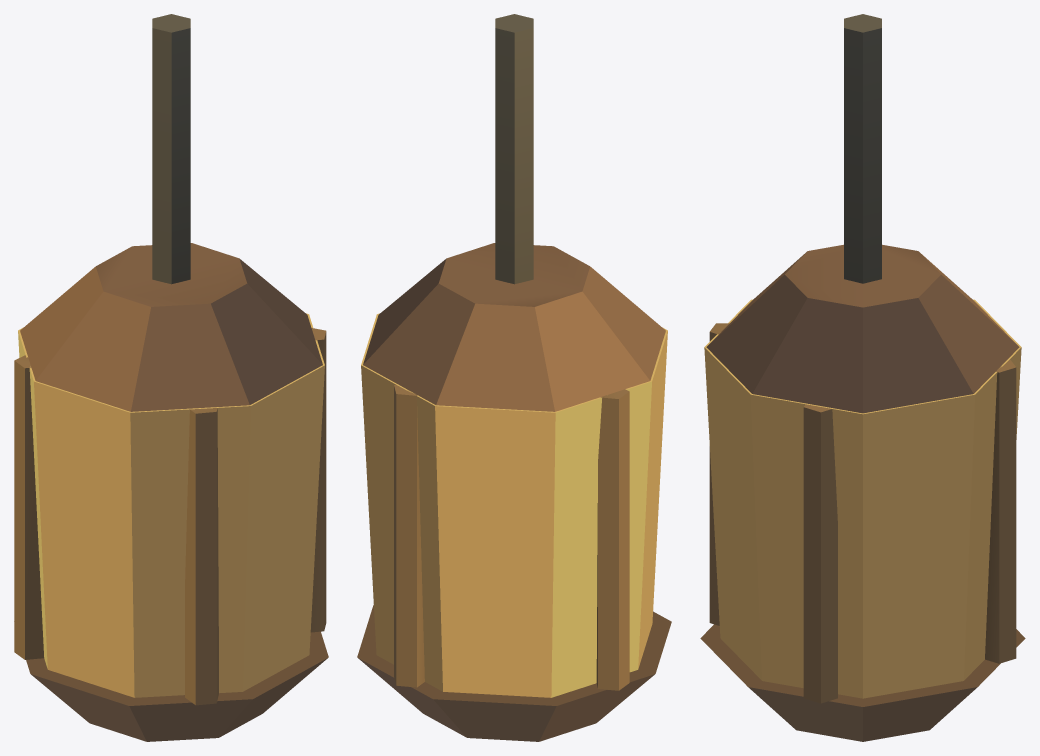
Rendered from town_lantern.glb.
3 renders of one model, left to right at view 1: azimuth 30°, elevation 25°; view 2: azimuth 150°, elevation 25°; view 3: azimuth 270°, elevation 25°, orthographic.
Visible parts, largest first — view 1: Windlaterne aus Honigglas; view 2: Windlaterne aus Honigglas; view 3: Windlaterne aus Honigglas.
Part boxes in pixels (x1,y1,x2,y2): Windlaterne aus Honigglas: [14, 14, 328, 741]; Windlaterne aus Honigglas: [357, 14, 671, 741]; Windlaterne aus Honigglas: [700, 14, 1025, 741].
Size of the model in its own units: 0.162 by 0.373 by 0.162.
